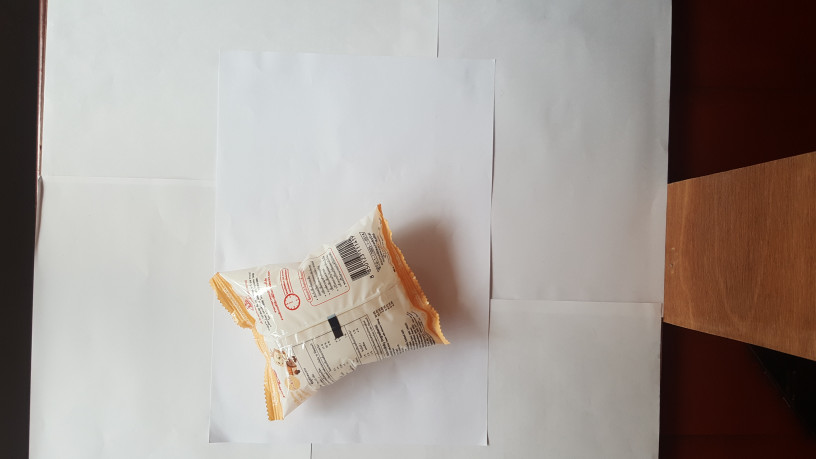farmhouse-sweetsandwich-almond: (209, 198, 460, 432)
